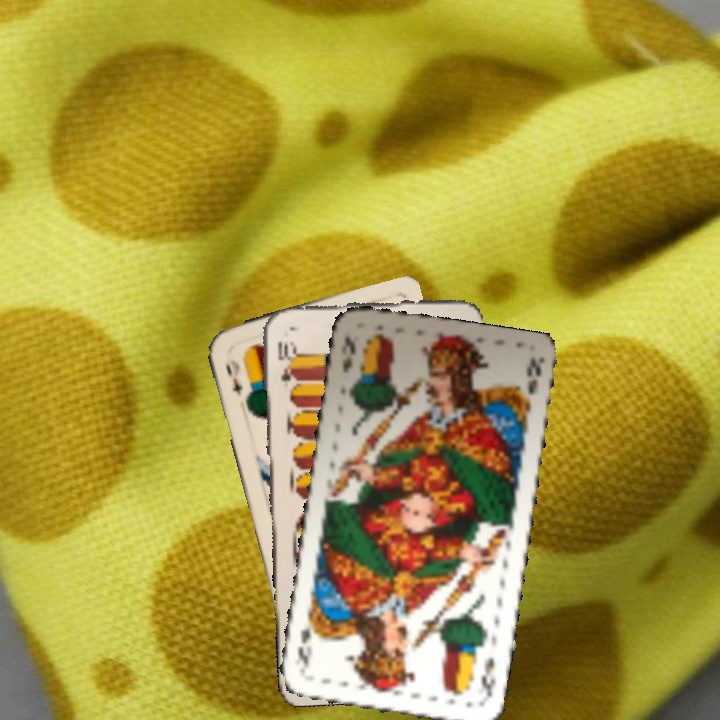E10: (273, 337, 297, 384)
EK: (476, 653, 499, 703), (336, 331, 359, 376)
EO: (221, 356, 246, 398)
